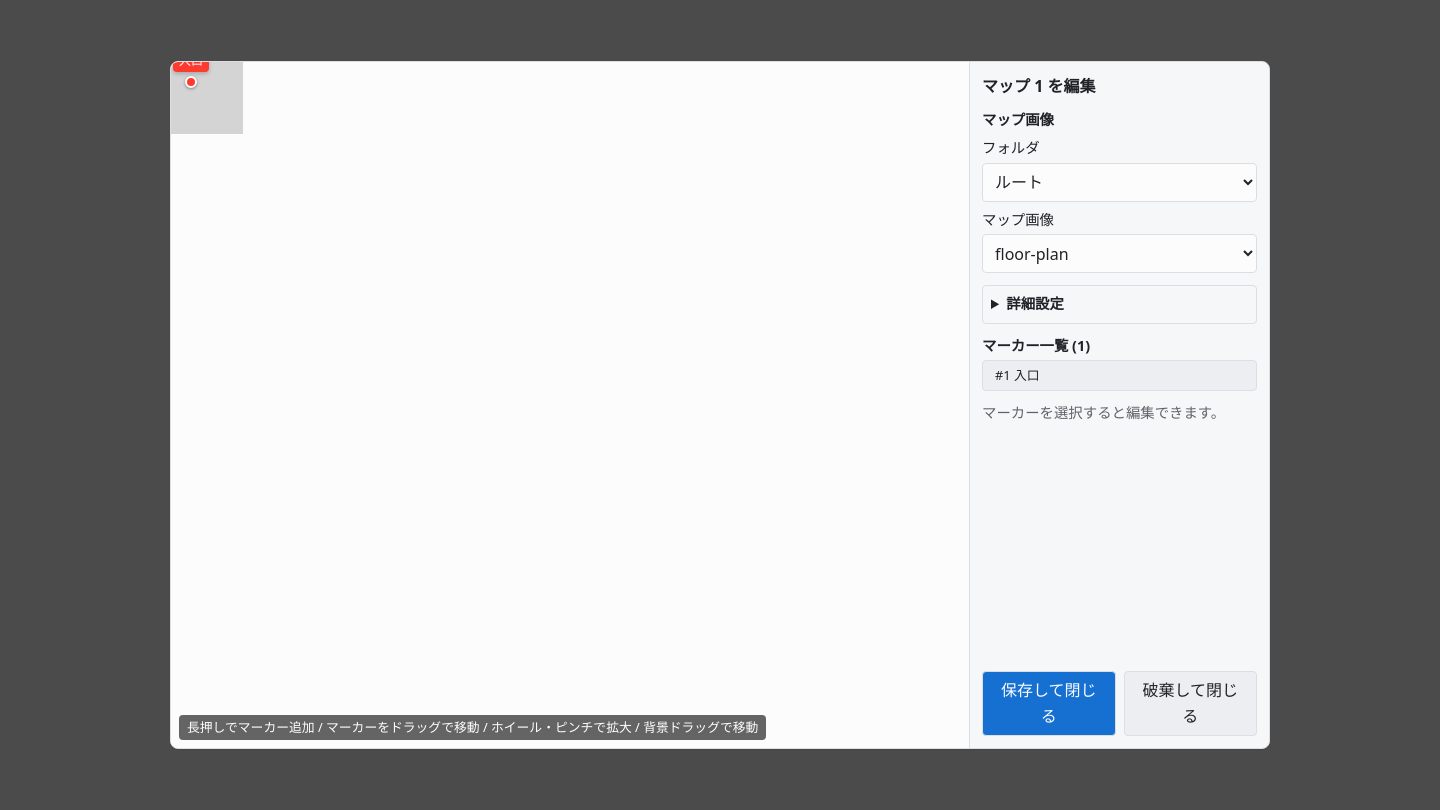
Test: MapEditorModal › videoinput が無い場合は「カメラで撮影」ボタンを表示せず、ファイル選択は残る
Click the button "#1 入口".
click(1017, 375)  # box [982,360,1257,391]
(page scrolled)
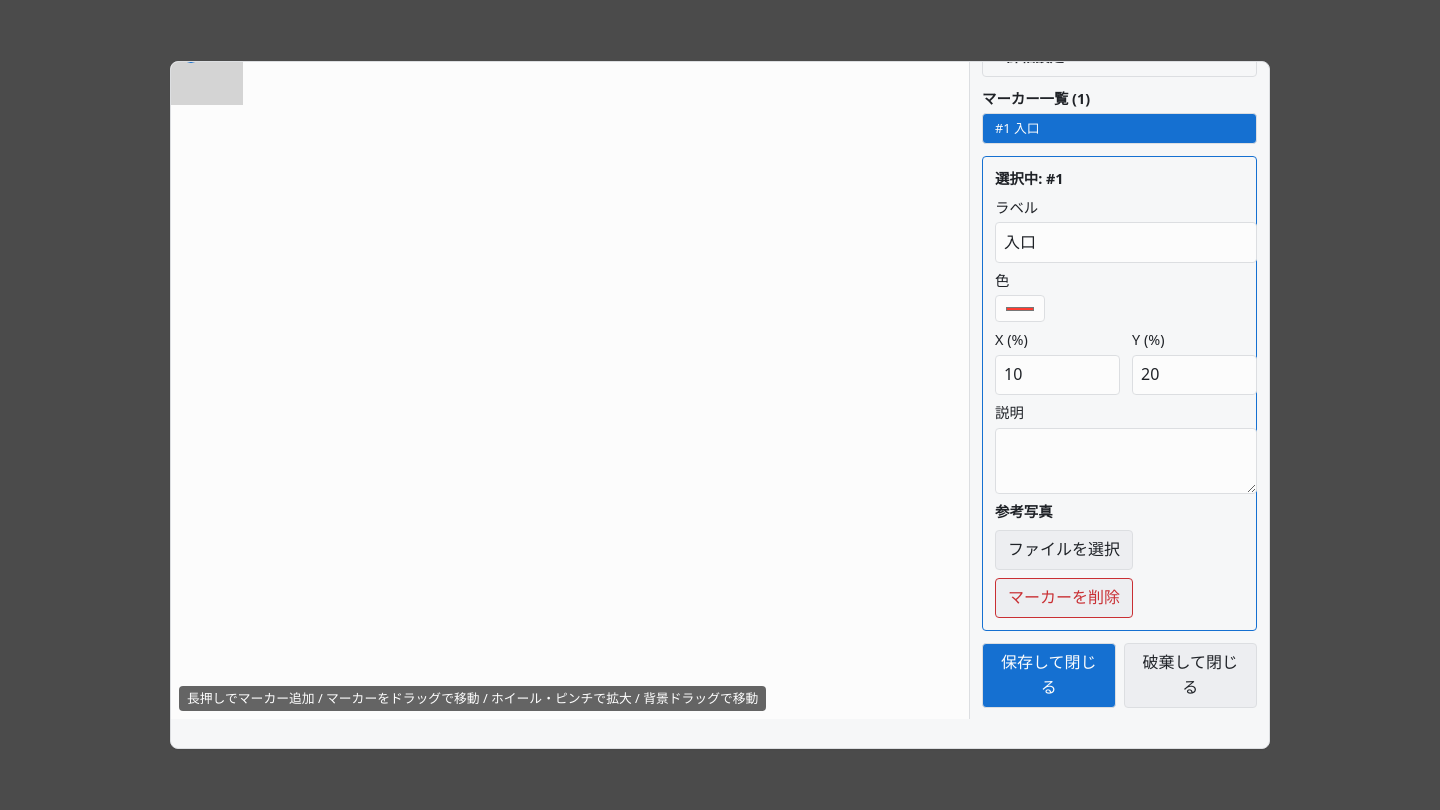
Check: the button "ファイルを選択" is shown, box [995,530,1133,570]
